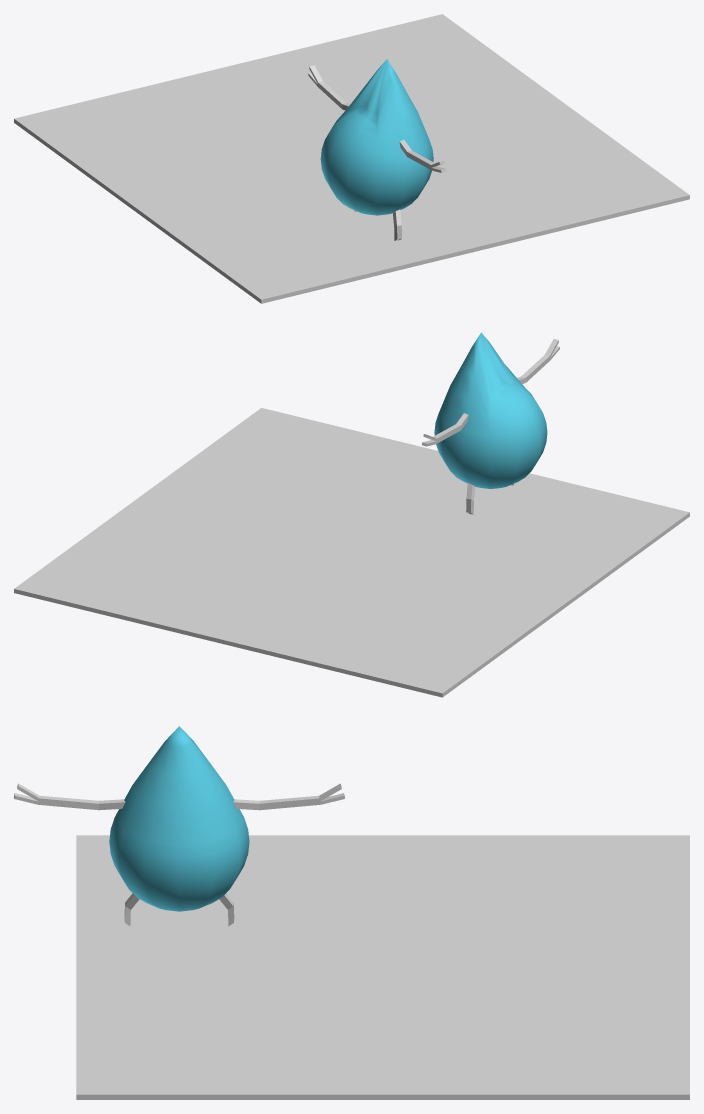
Rendered from GotadeAgua.fbx.
The picture shows the model from 3 angles, top to bottom: view 1: azimuth 30°, elevation 25°; view 2: azimuth 150°, elevation 25°; view 3: azimuth 270°, elevation 25°; orthographic projection. The views are drawn at different scales.
Visible parts, largest first — view 1: Cube.001, Sphere, Cube; view 2: Cube.001, Sphere, Cube; view 3: Cube.001, Sphere, Cube.
Boxes of the visible parts, x1=… form: Cube.001: x1=14, y1=14, x2=689, y2=303; Sphere: x1=320, y1=59, x2=433, y2=215; Cube: x1=308, y1=65, x2=446, y2=240; Cube.001: x1=14, y1=408, x2=689, y2=697; Sphere: x1=434, y1=332, x2=547, y2=488; Cube: x1=421, y1=339, x2=559, y2=514; Cube.001: x1=76, y1=835, x2=689, y2=1099; Sphere: x1=109, y1=726, x2=249, y2=911; Cube: x1=14, y1=783, x2=344, y2=926.
Bounding box in the file's own units: 876 × 339 × 964.
